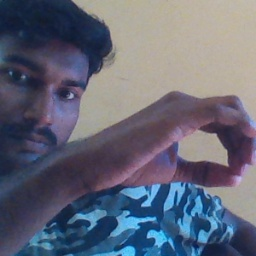O: (110, 80, 256, 204)
